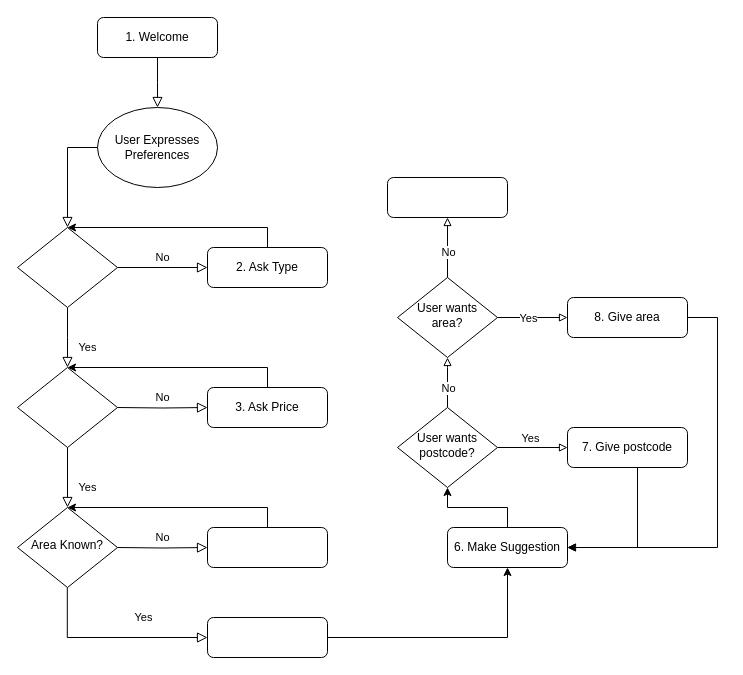
Image size: 743x675. Some labels were removed from this diagram. Here are the shapes that lost their labels. From the top down, the box of each, then its label:
(386, 176, 508, 218): 9. Exit
(16, 226, 118, 308): Type Known
(16, 366, 118, 448): Price Known?
(206, 526, 328, 568): 4. Ask Area
(206, 616, 328, 658): 5. Ask for additional requirements
